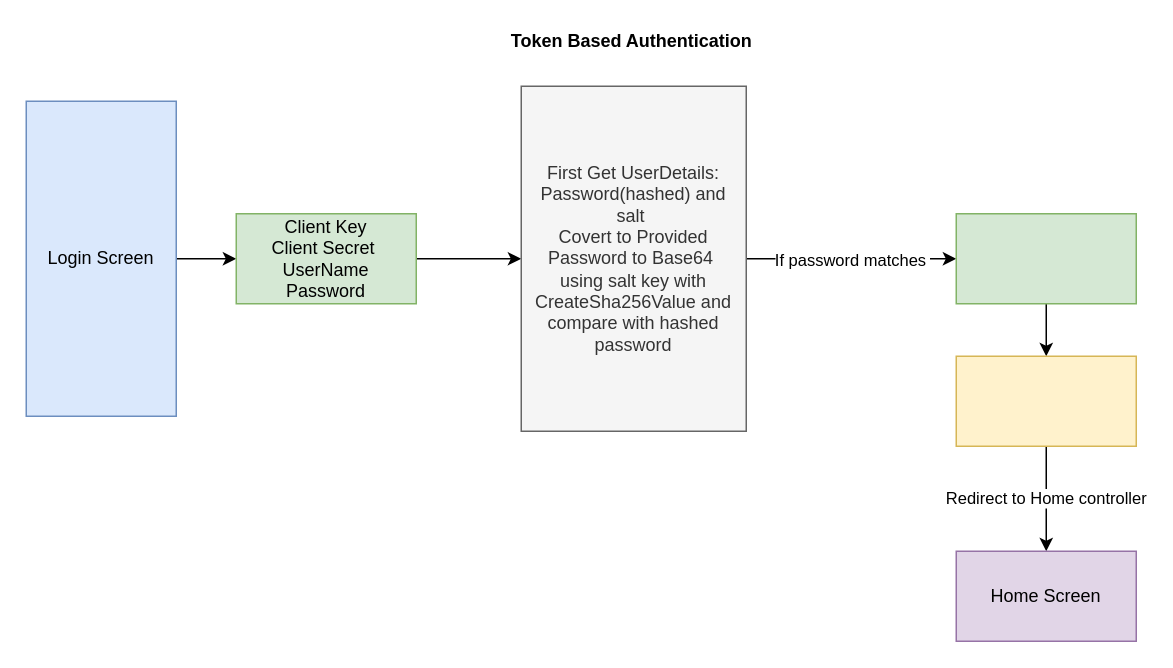
This 1173x668 diagram has some shape labels left out. The shapes that lost their labels are listed below. From the top down, each one's box as (x1, y1, x2, y2) in pixels, then its label:
(955, 212, 1136, 304): Create token
(955, 355, 1136, 446): Add token to Cache
